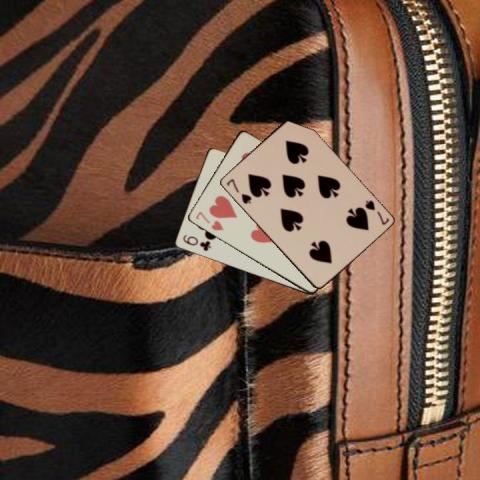6c: (179, 231, 212, 253)
7h: (192, 209, 225, 232)
7s: (223, 176, 253, 206), (362, 197, 390, 227)
